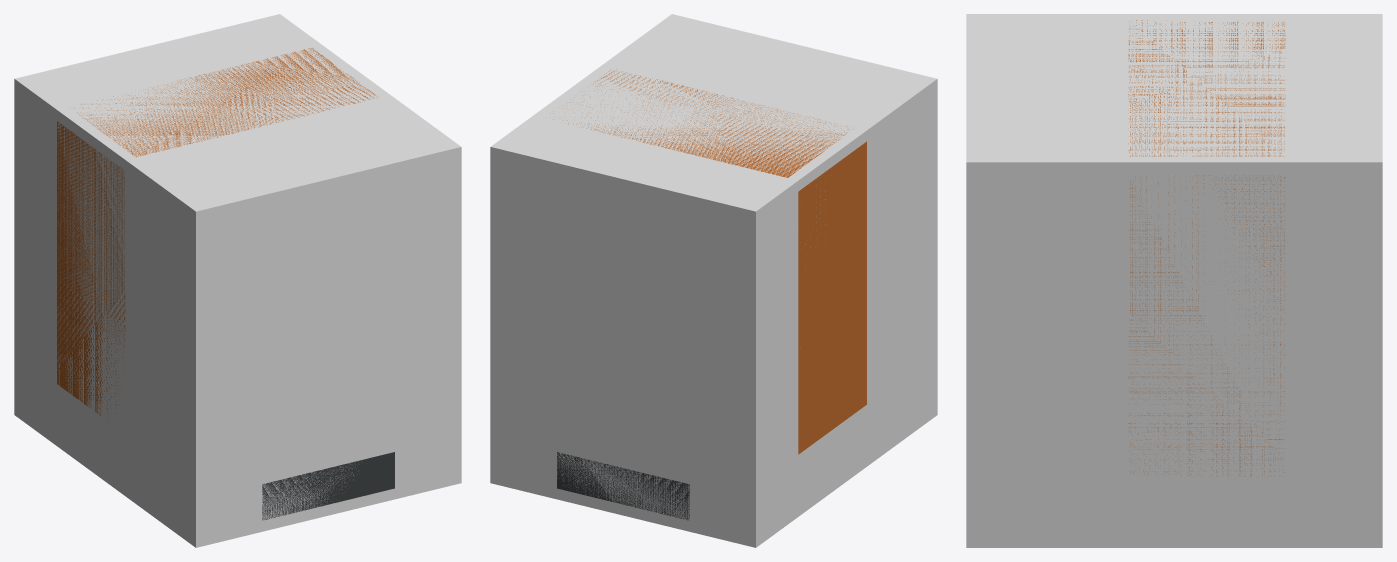
File: smg_sight_reflex.glb
3 views of the same model, side by side, from view 1: azimuth 30°, elevation 25°; view 2: azimuth 150°, elevation 25°; view 3: azimuth 270°, elevation 25° (orthographic). The views are drawn at different scales.
Visible parts, largest first — view 1: COL_part, sight; view 2: COL_part, sight; view 3: COL_part, sight.
Part boxes in pixels (box(x1,y1,x2,y2)): COL_part: box(14, 14, 461, 547); sight: box(57, 48, 394, 520); COL_part: box(490, 14, 937, 547); sight: box(557, 69, 866, 520); COL_part: box(966, 14, 1382, 547); sight: box(1128, 20, 1285, 476).
Bounding box in the file's own units: 0.038 × 0.046 × 0.045.
